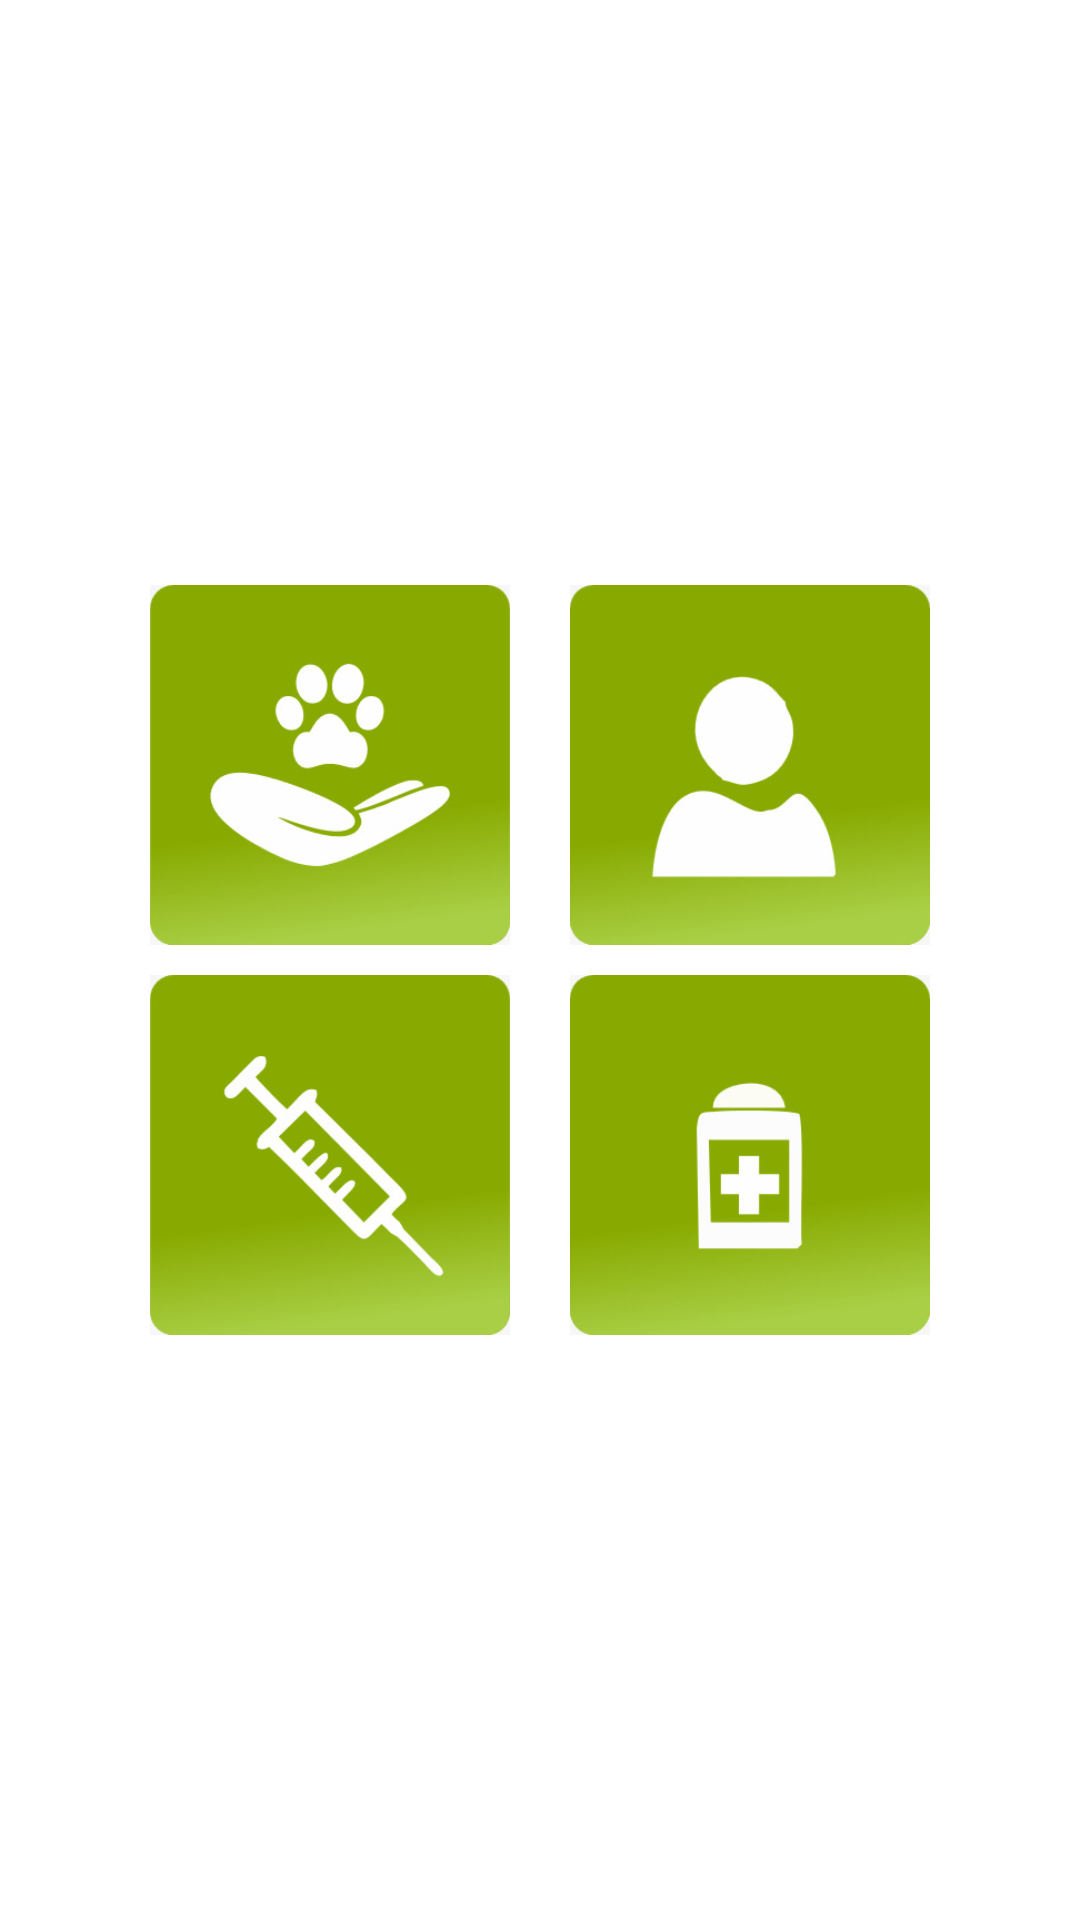

Icon bounding boxes for this 1080 × 1920 phone screenshot, format (x1, y1, x2, y2):
medicamento: (570, 975, 930, 1335)
pet: (150, 585, 510, 945)
proprietario: (570, 585, 930, 945)
vacina: (150, 975, 510, 1335)
